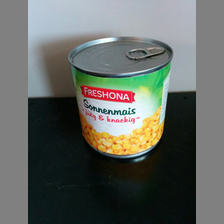corn: (67, 35, 174, 159)
